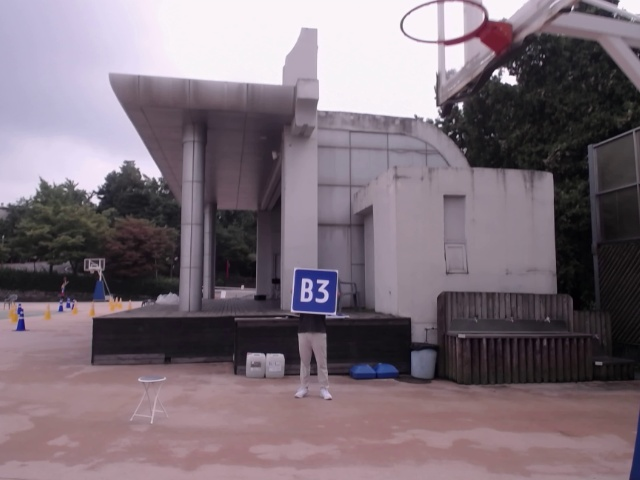delivery_b3: (294, 268, 338, 313)
